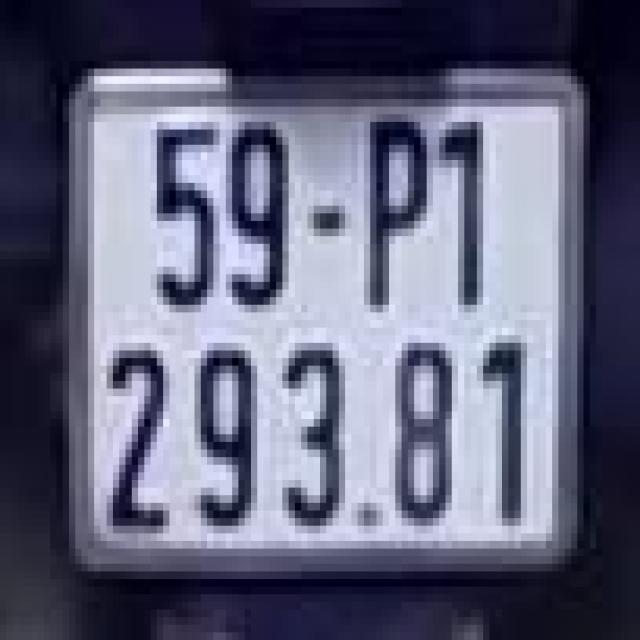1: (470, 320, 540, 533), (436, 107, 499, 312)
2: (97, 339, 173, 537)
3: (276, 336, 351, 534)
5: (135, 111, 223, 316)
8: (386, 332, 455, 537)
9: (223, 114, 298, 328), (188, 332, 264, 530)
P: (355, 107, 436, 312)
